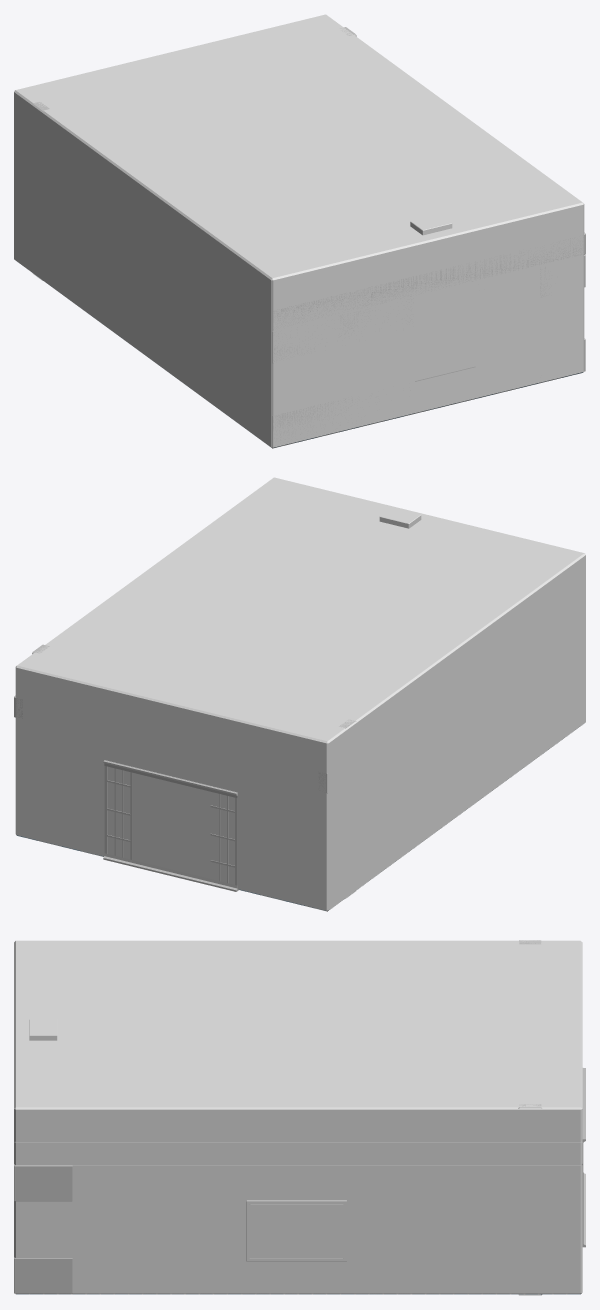
File: Kitchen.fbx
3 views of the same model, one above another, from view 1: azimuth 30°, elevation 25°; view 2: azimuth 150°, elevation 25°; view 3: azimuth 270°, elevation 25° (orthographic). The views are drawn at different scales.
Visible parts, largest first — view 1: Kitchen Room, Pillar Horizontal, Cabinets, Chimney; view 2: Kitchen Room, Door.001, Chimney; view 3: Kitchen Room, Window Frame, Cabinets, Pillar Horizontal, Door.001, Chimney.
Boxes of the visible parts, x1,y1,x2,y2 form: Kitchen Room: (14,14,584,448); Pillar Horizontal: (273,232,585,329); Cabinets: (272,254,585,447); Chimney: (410,214,452,235); Kitchen Room: (15,477,585,911); Door.001: (103,760,238,891); Chimney: (379,507,421,528); Kitchen Room: (14,940,582,1294); Window Frame: (246,1200,346,1261); Cabinets: (14,1165,72,1293); Pillar Horizontal: (14,1141,582,1165); Door.001: (582,1068,585,1247); Chimney: (29,1019,57,1040).
Bounding box in the file's own units: 4.36 × 6.21 × 2.31.
